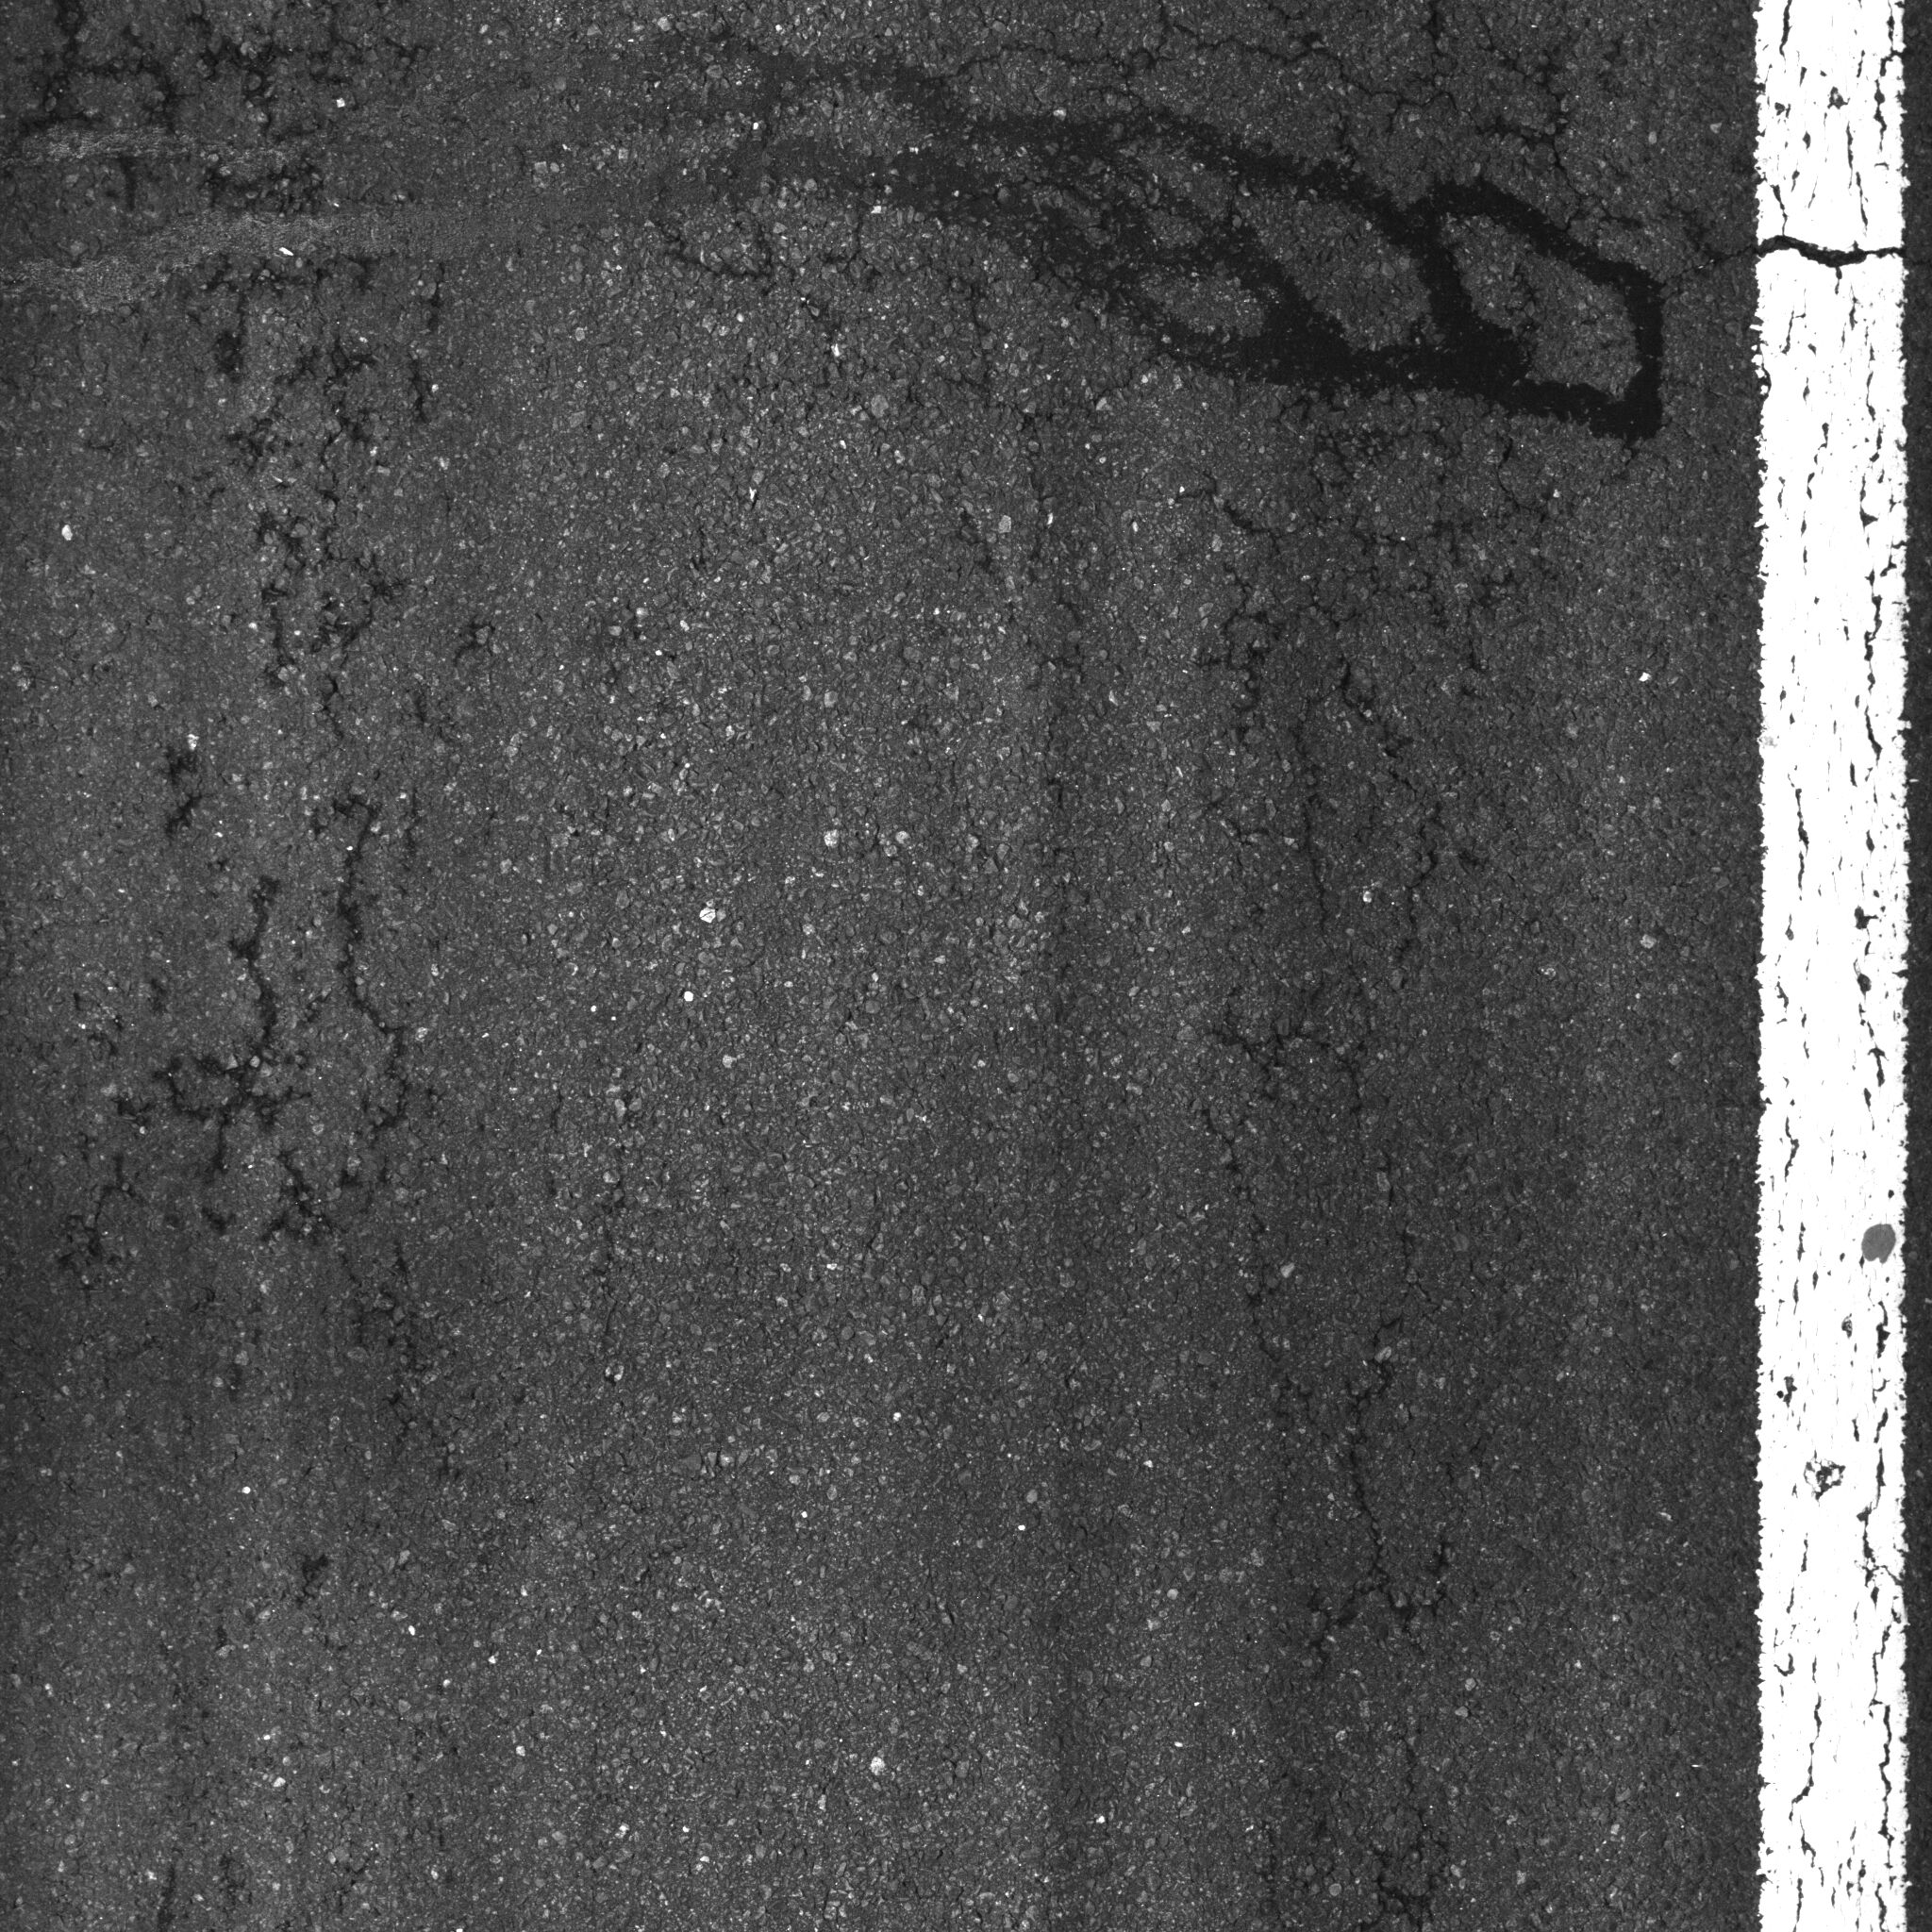alligator: (646, 2, 1711, 1916), (32, 21, 570, 1502)
